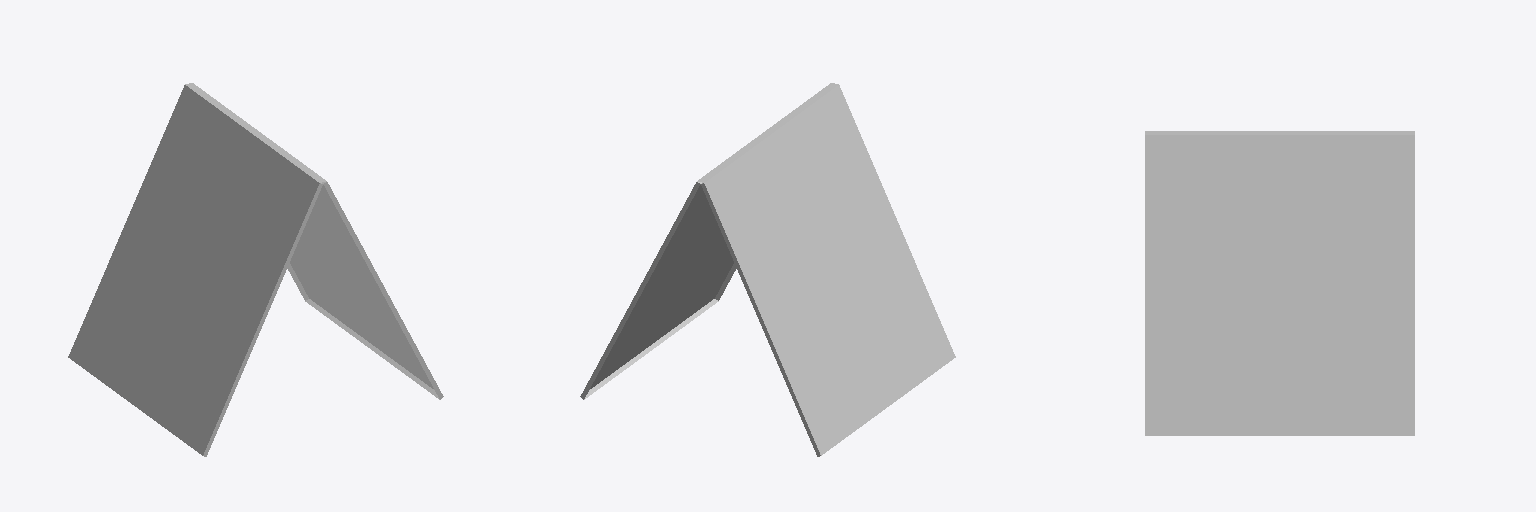
Rendered from surf.obj.
3 views of the same model, side by side, from view 1: azimuth 30°, elevation 25°; view 2: azimuth 150°, elevation 25°; view 3: azimuth 270°, elevation 25° (orthographic).
Parts seen in each view (by area): view 1: Surf_Plat_Cube; view 2: Surf_Plat_Cube; view 3: Surf_Plat_Cube.
Part boxes in pixels (bbox=[...]): Surf_Plat_Cube: bbox=[68, 83, 443, 456]; Surf_Plat_Cube: bbox=[580, 83, 955, 456]; Surf_Plat_Cube: bbox=[1145, 131, 1414, 435].
Size of the model in its own units: 7.23 by 7.06 by 7.